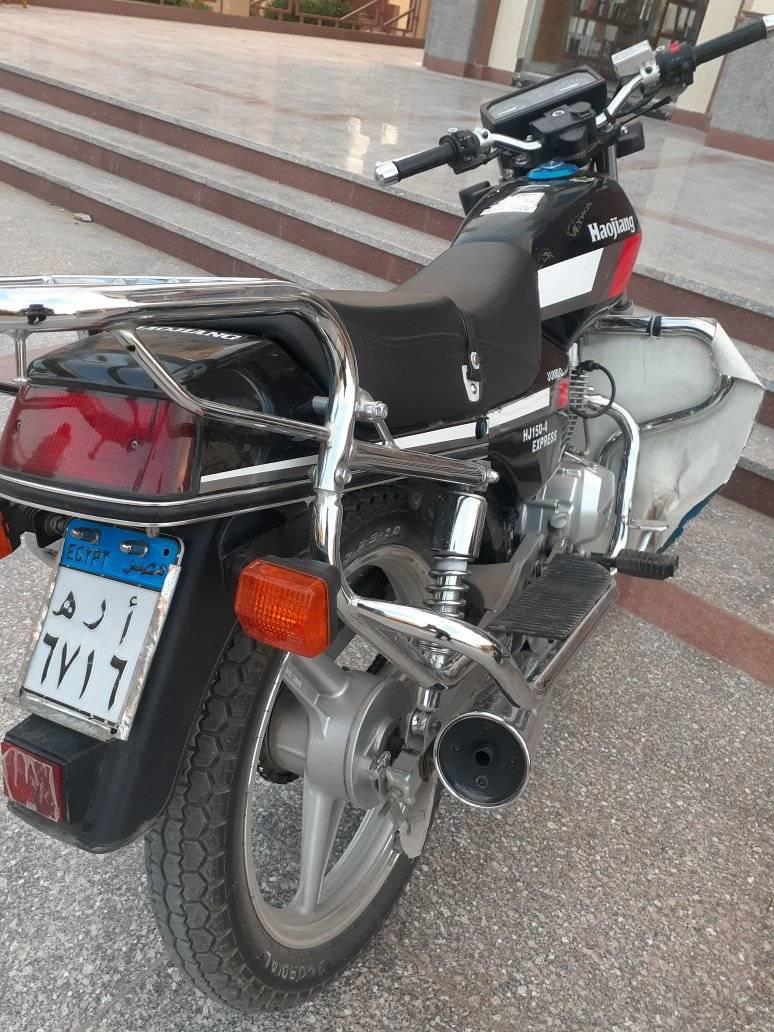License Plate: (14, 515, 185, 740)
